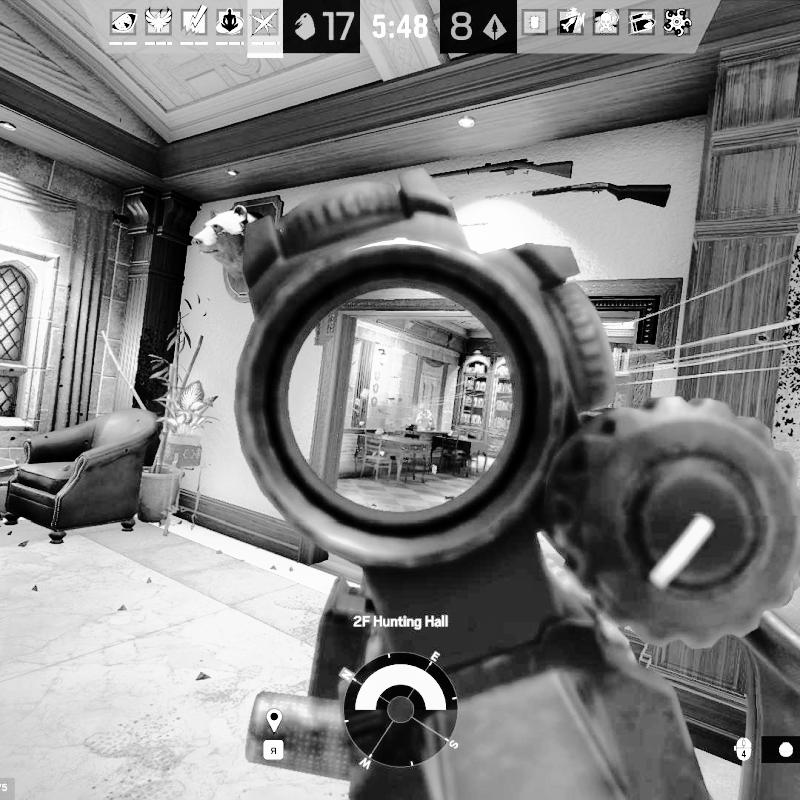Character: (414, 402, 435, 430)
Head: (418, 403, 427, 413)
